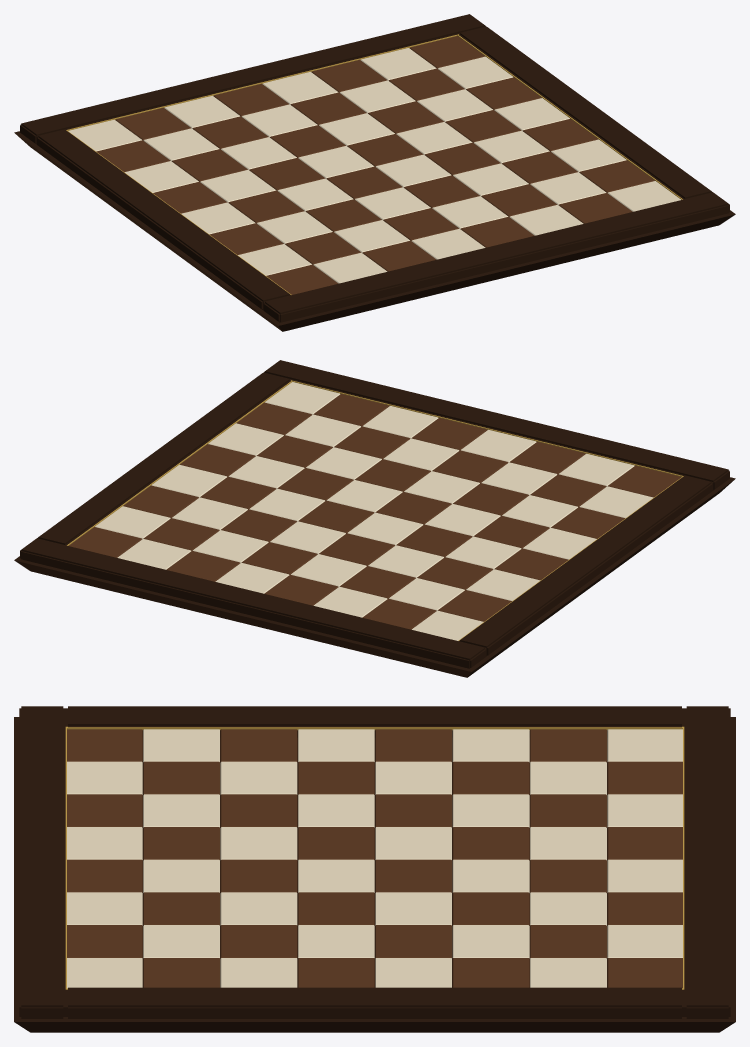
The model's file is Tablero.fbx.
3 views of the same model, one above another, from view 1: azimuth 30°, elevation 25°; view 2: azimuth 150°, elevation 25°; view 3: azimuth 270°, elevation 25° (orthographic). The views are drawn at different scales.
Parts seen in each view (by area): view 1: Tablero; view 2: Tablero; view 3: Tablero.
Part boxes in pixels (x1,y1,x2,y2): Tablero: (14,14,735,331); Tablero: (14,360,735,677); Tablero: (14,706,735,1032).
Size of the model in its own units: 9.33 by 0.95 by 9.33.
